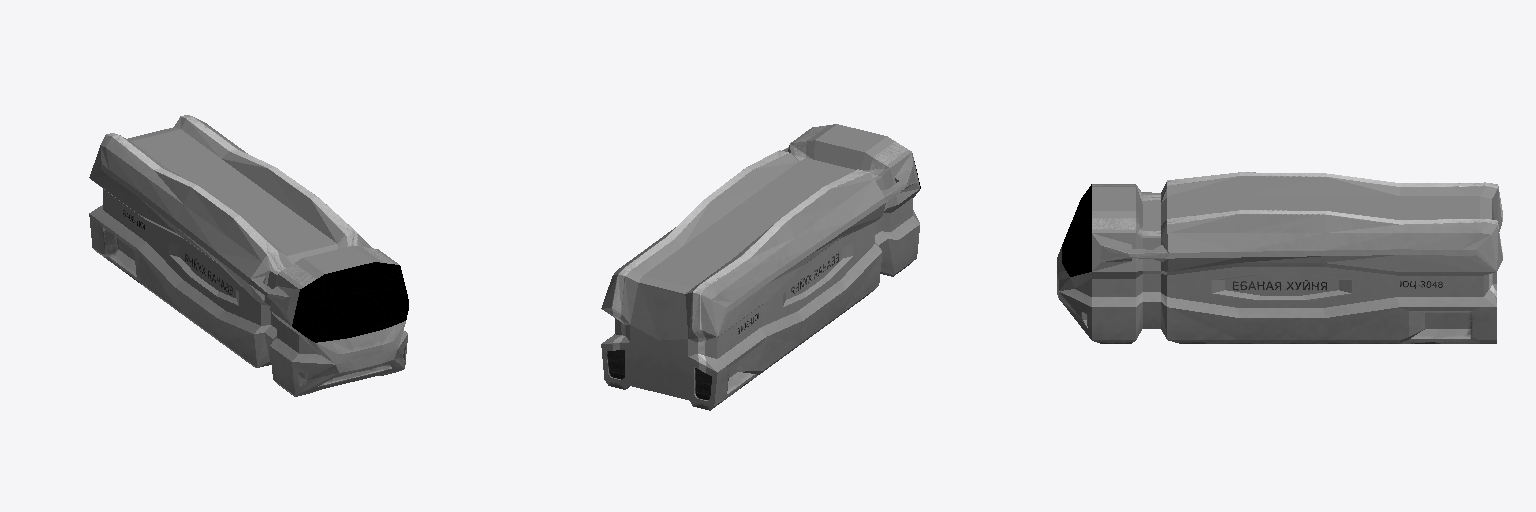
The picture shows the model from 3 angles: view 1: azimuth 30°, elevation 25°; view 2: azimuth 150°, elevation 25°; view 3: azimuth 270°, elevation 25°; orthographic projection.
Visible parts, largest first — view 1: Cube.001; view 2: Cube.001; view 3: Cube.001.
Boxes of the visible parts, x1=… form: Cube.001: x1=89, y1=115, x2=408, y2=396; Cube.001: x1=601, y1=124, x2=920, y2=410; Cube.001: x1=1057, y1=172, x2=1502, y2=343.
Size of the model in its own units: 2.57 by 2.39 by 7.71.
Materials: 1 (1 with a texture image).